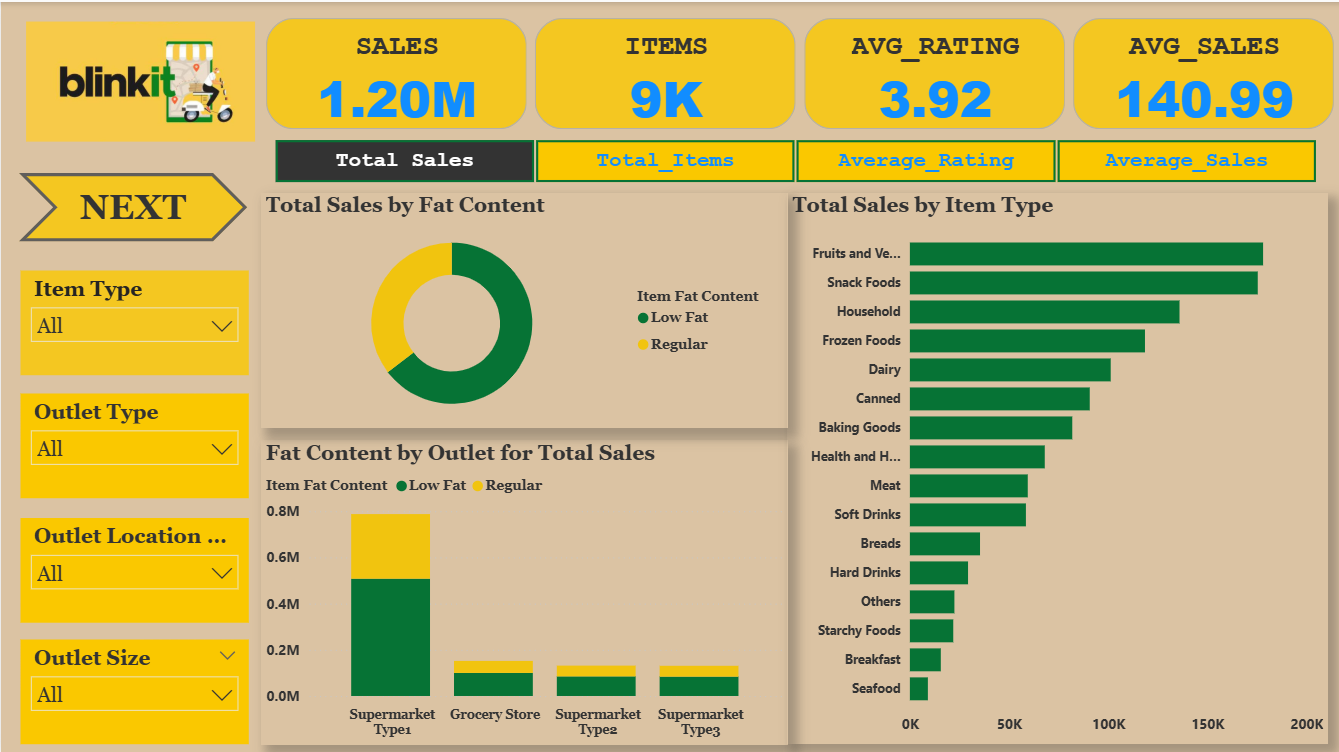

The dashboard page shown, as its layout file describes it:
{"tool":"powerbi","page":{"name":"Blinkit Dashboard","canvas":[1280,720],"ordinal":0},"visuals":[{"type":"cardVisual","fields":{"Data":["BlinkIT Grocery Data.Total Sales","BlinkIT Grocery Data.Total_Items","BlinkIT Grocery Data.Average_Rating","BlinkIT Grocery Data.Average_Sales"]},"box":[247.7,9.7,1031.4,116.6],"z":0},{"type":"slicer","fields":{"Values":["KPI Metrics.KPI Metrics"]},"box":[236.2,124.2,1043.3,54.5],"z":0,"group":"g1"},{"type":"clusteredBarChart","title":"Total Sales by Item Type","fields":{"Y":["BlinkIT Grocery Data.Total Sales"],"Category":["BlinkIT Grocery Data.Item Type"]},"box":[751.1,182,516.7,526.9],"z":1000,"group":"g1"},{"type":"slicer","fields":{"Values":["BlinkIT Grocery Data.Item Type"]},"box":[18.2,255.9,218,100],"z":1000},{"type":"donutChart","title":"Total Sales by Fat Content","fields":{"Y":["BlinkIT Grocery Data.Total Sales"],"Category":["BlinkIT Grocery Data.Item Fat Content"]},"box":[247.4,182,503.6,225.6],"z":2000,"group":"g1"},{"type":"slicer","fields":{"Values":["BlinkIT Grocery Data.Outlet Type"]},"box":[18.2,374,218,99.9],"z":2000},{"type":"columnChart","title":"Fat Content by Outlet for Total Sales","fields":{"Y":["BlinkIT Grocery Data.Total Sales"],"Series":["BlinkIT Grocery Data.Item Fat Content"],"Category":["BlinkIT Grocery Data.Outlet Type"]},"box":[247.4,417.8,503.6,291.1],"z":3000,"group":"g1"},{"type":"slicer","fields":{"Values":["BlinkIT Grocery Data.Outlet Location Type"]},"box":[18.2,492.1,218,99.9],"z":3000},{"type":"slicer","fields":{"Values":["BlinkIT Grocery Data.Outlet Size"]},"box":[18.2,608.7,218,99.9],"z":4000},{"type":"image","box":[18.6,0,229.2,151.8],"z":5000},{"type":"group","id":"g1","title":"Group 2","box":[236.2,124.2,1043.3,584.7],"z":6000},{"type":"actionButton","box":[17.5,163.8,217.9,65.2],"z":7000}]}

Visuals, with their boxes in screenshot pixels (x1, y1, x2, y2), scaled from the page's 1280x720 canvas onto the 1339x752 screenshot:
cardVisual - BlinkIT Grocery Data.Total Sales x BlinkIT Grocery Data.Total_Items: (259,10,1338,132)
slicer - KPI Metrics.KPI Metrics: (247,130,1338,187)
"Total Sales by Item Type" clusteredBarChart: (786,190,1326,740)
slicer - BlinkIT Grocery Data.Item Type: (19,267,247,372)
"Total Sales by Fat Content" donutChart: (259,190,786,426)
slicer - BlinkIT Grocery Data.Outlet Type: (19,391,247,495)
"Fat Content by Outlet for Total Sales" columnChart: (259,436,786,740)
slicer - BlinkIT Grocery Data.Outlet Location Type: (19,514,247,618)
slicer - BlinkIT Grocery Data.Outlet Size: (19,636,247,740)
image: (19,0,259,159)
"Group 2" group: (247,130,1338,740)
actionButton: (18,171,246,239)
